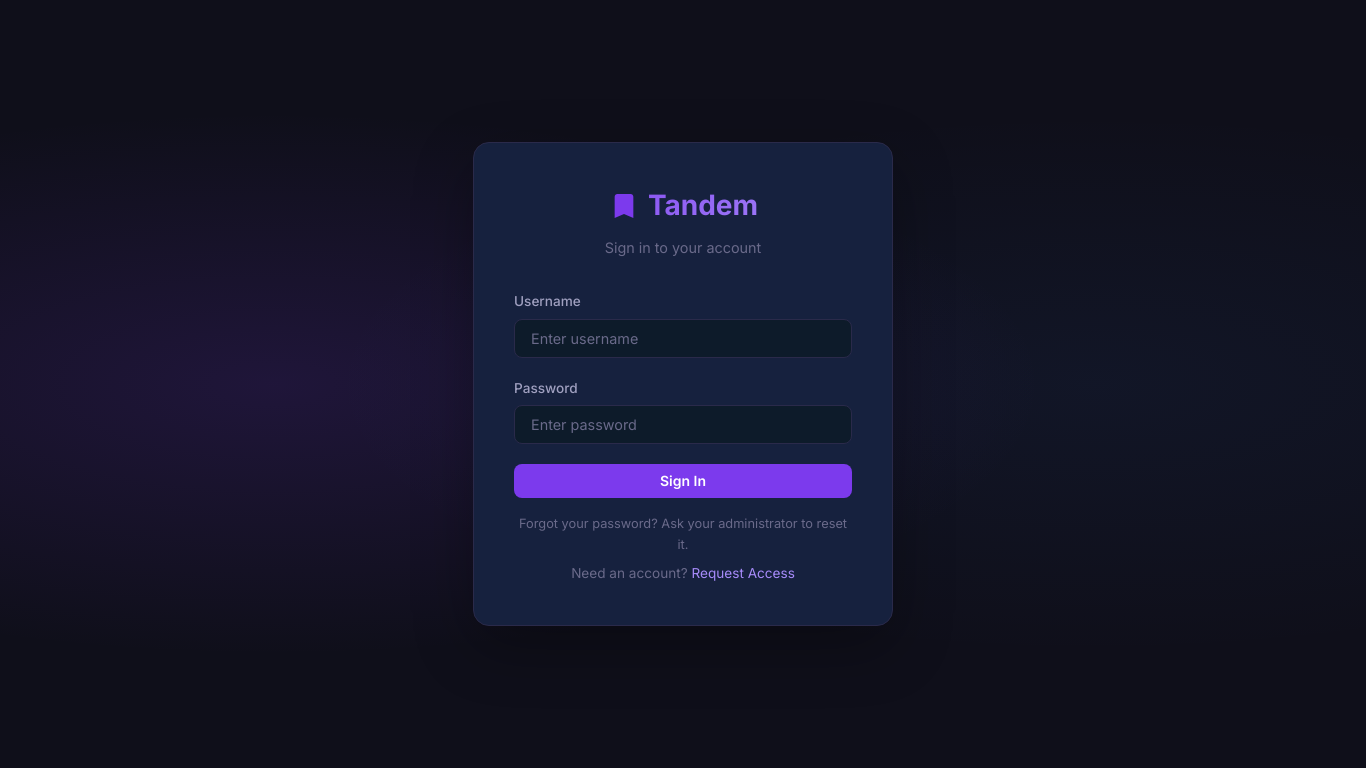
Test case: LoginPage — request access › switches to the register form and asks for an email
Check: the field labelled "Email" is not shown
What coordinates should you click on to do the following:
click the link "Request Access"
I would click on:
 (743, 573)
Its box is [692, 565, 795, 581].
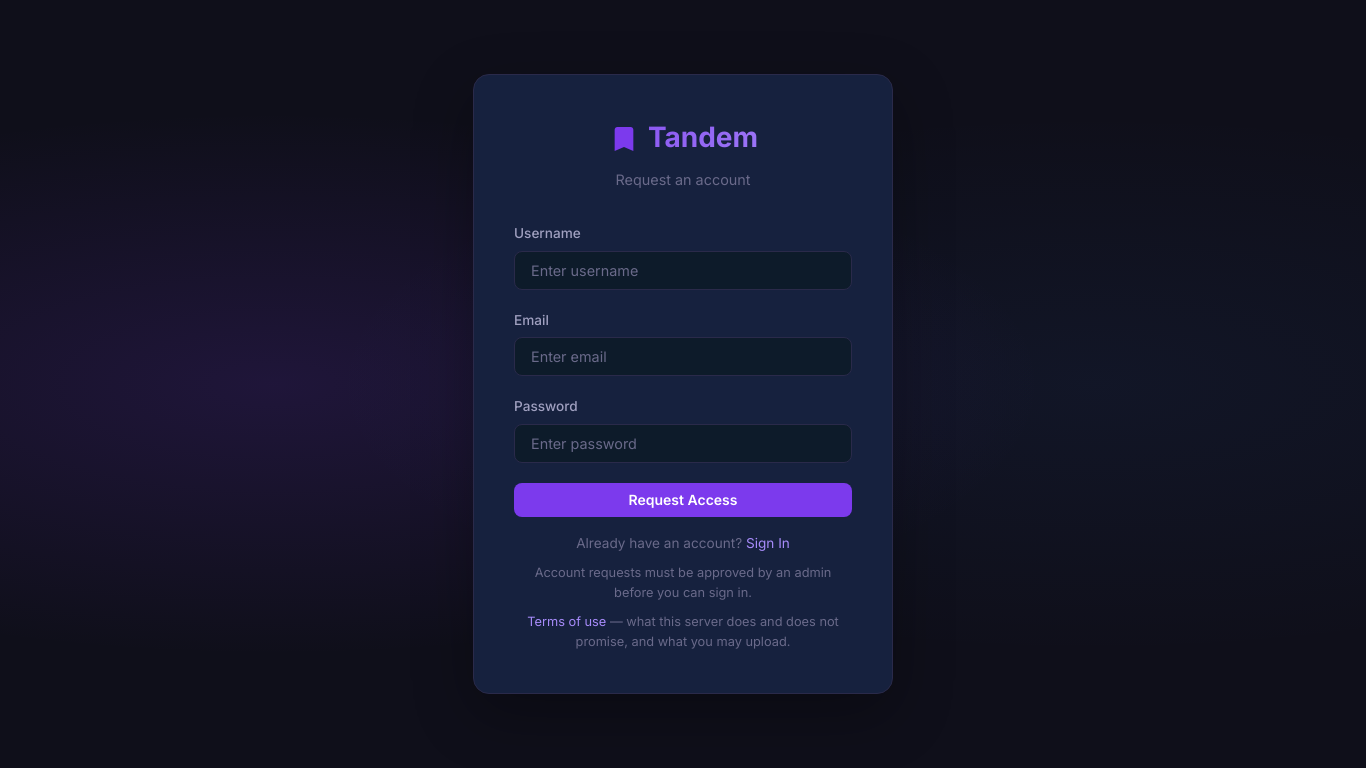
Check: the field labelled "Email" is shown, box [514, 338, 852, 376]
Check: the text "Request an account" is shown, box [616, 171, 750, 188]
